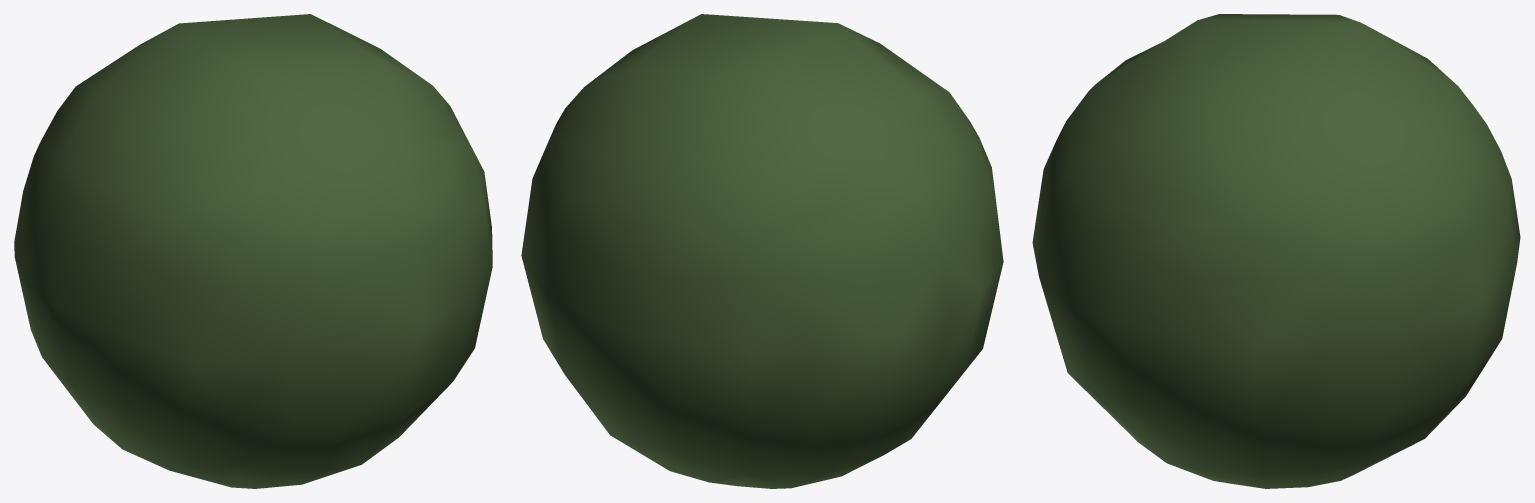
File: p_trashbot_splatter_sphere02.fbx
3 renders of one model, left to right at view 1: azimuth 30°, elevation 25°; view 2: azimuth 150°, elevation 25°; view 3: azimuth 270°, elevation 25°, orthographic.
Parts seen in each view (by area): view 1: p_trashbot_splatter_sphear02; view 2: p_trashbot_splatter_sphear02; view 3: p_trashbot_splatter_sphear02.
Boxes of the visible parts, left/top/right/bottom form: p_trashbot_splatter_sphear02: left=14, top=14, right=492, bottom=488; p_trashbot_splatter_sphear02: left=521, top=14, right=1003, bottom=488; p_trashbot_splatter_sphear02: left=1032, top=14, right=1520, bottom=488.
Bounding box in the file's own units: 5.53 × 5.35 × 5.52.
